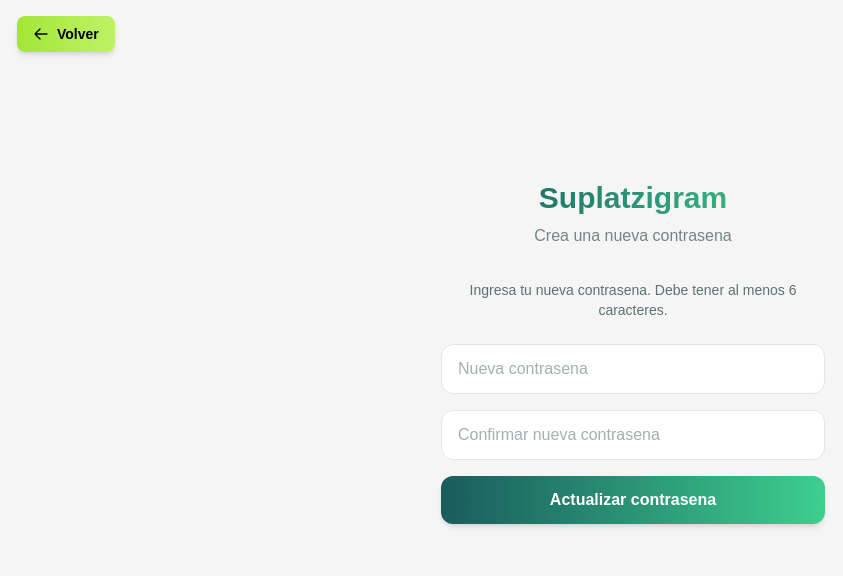
it: ResetPasswordPage › Form Submission - Success › shows success message after password update
The width and height of the screenshot is (843, 576).
Type "newpassword123" into the password field with placeholder "Nueva contrasena" at (633, 369), box [441,344,825,394]
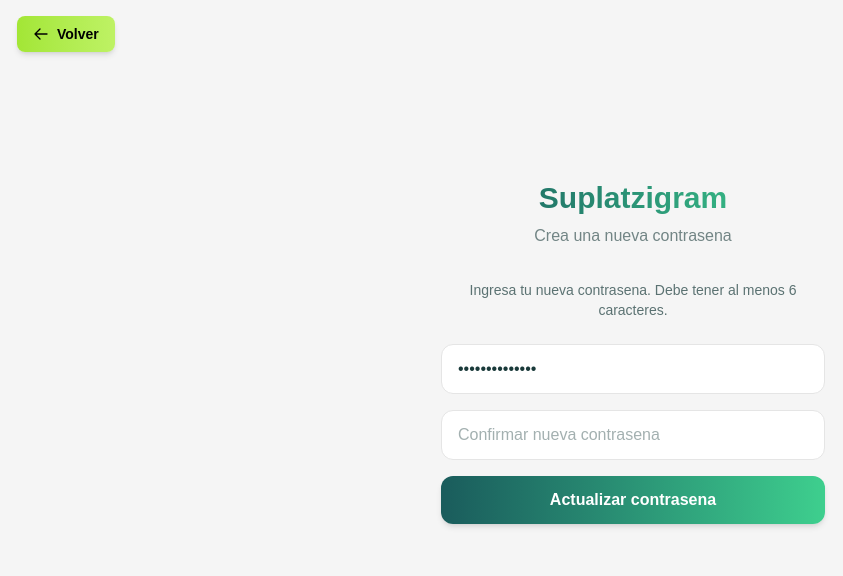
Type "newpassword123" into the password field with placeholder "Confirmar nueva contrasena" at (633, 435), box [441,410,825,460]
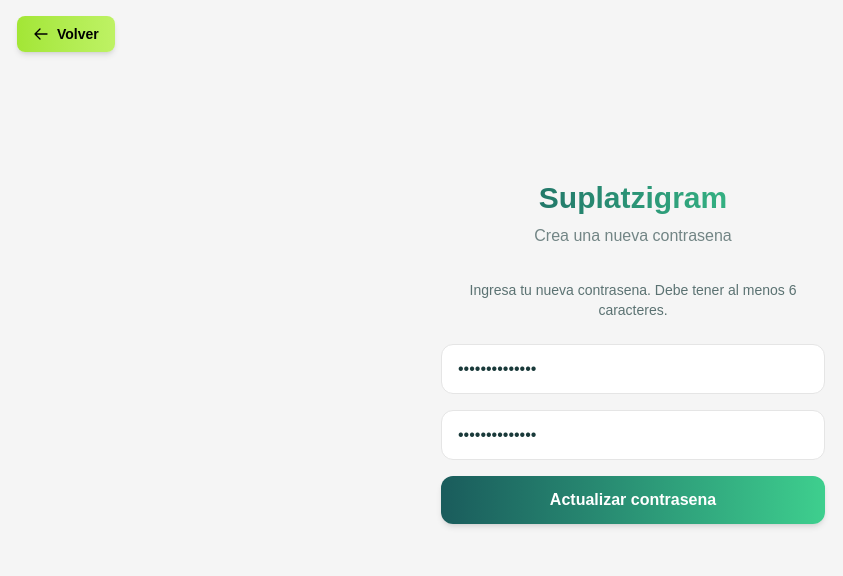
Click the button "Actualizar contrasena" at (633, 500), box [441,476,825,524]
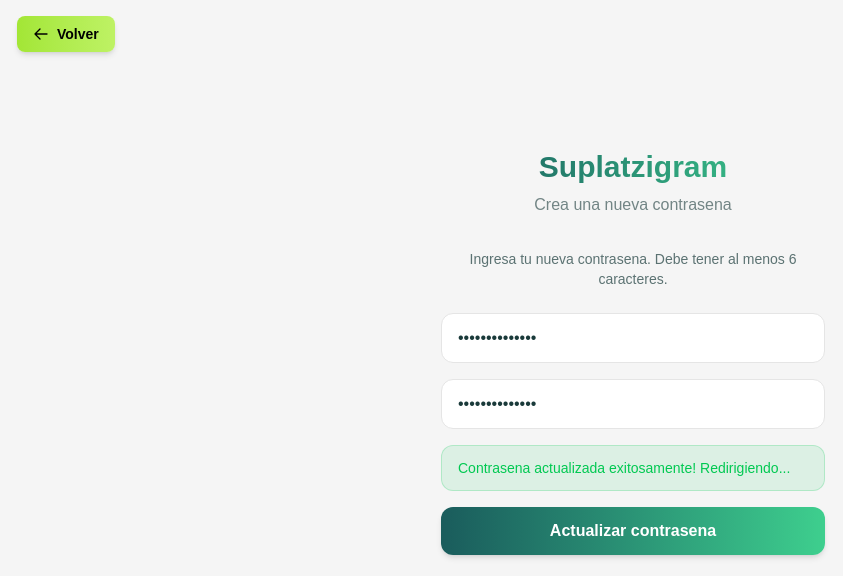
Expected: the text "Contrasena actualizada exitosamente! Redirigiendo..." is shown, [441,445,825,491]
